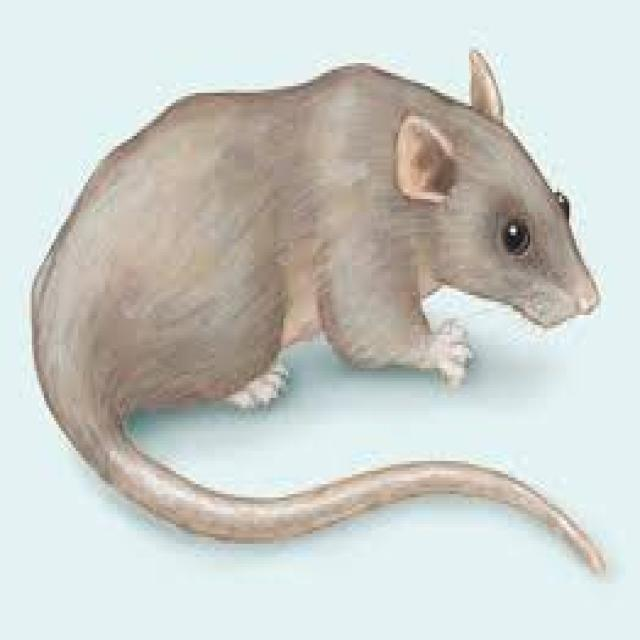rat: (27, 47, 606, 570)
